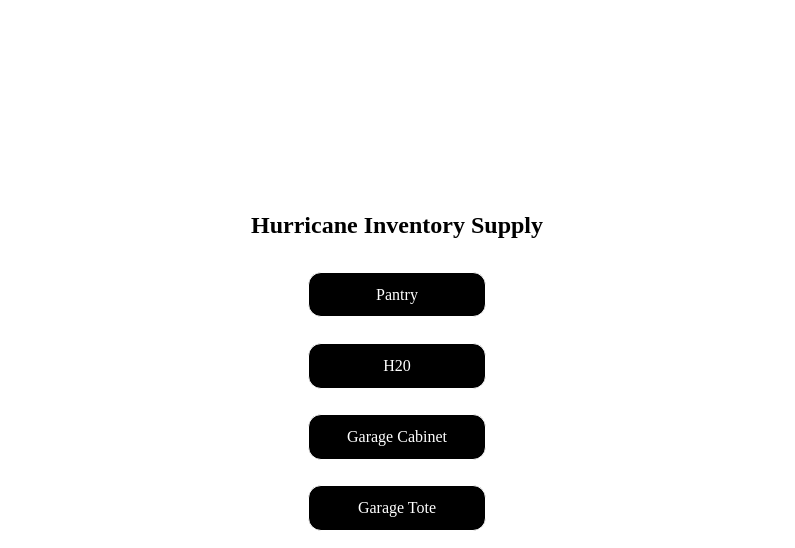
able to navigate to the pantry page
Click the link "Pantry" at (397, 295), box top-left (308, 272), bottom-right (486, 317)
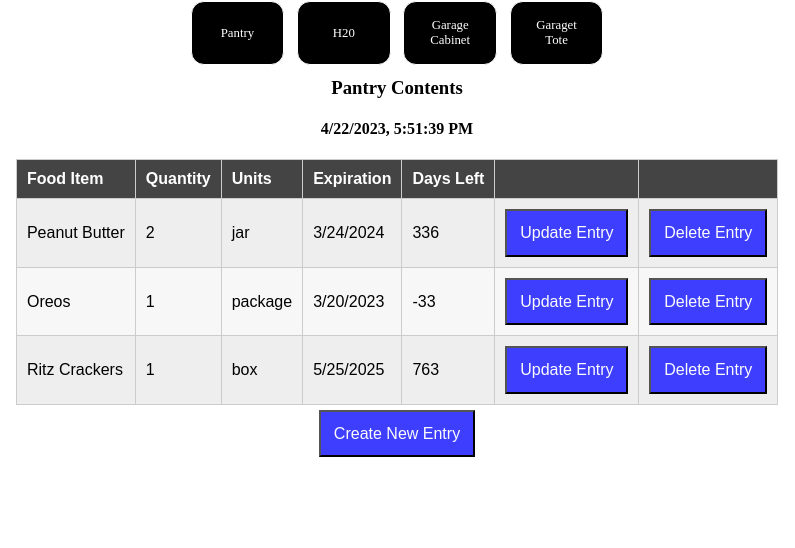
Now the heading "Pantry Contents" is shown, box top-left (331, 77), bottom-right (463, 98)
